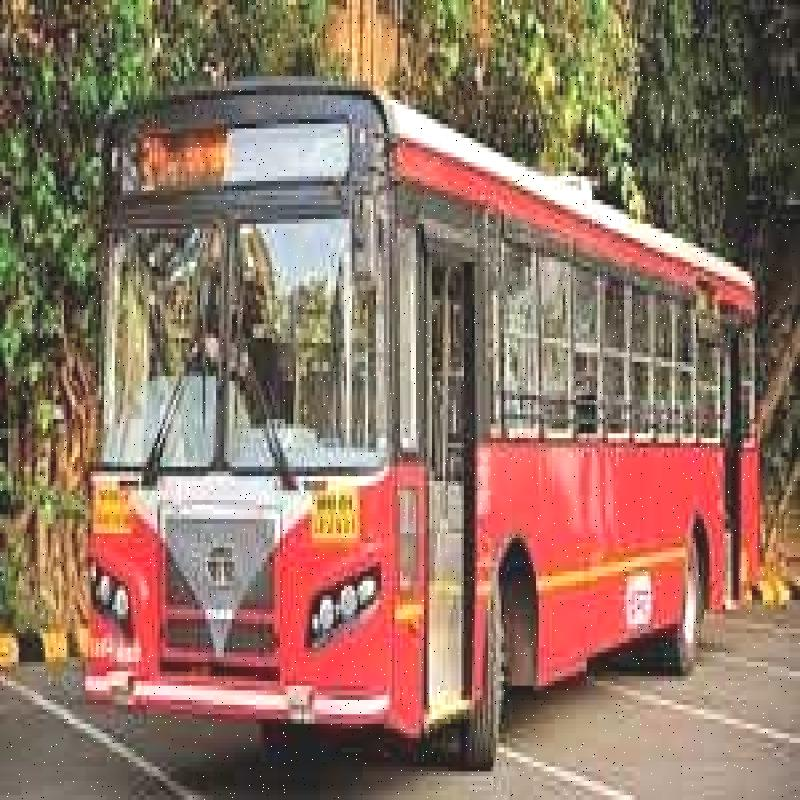bus: (78, 74, 790, 754)
